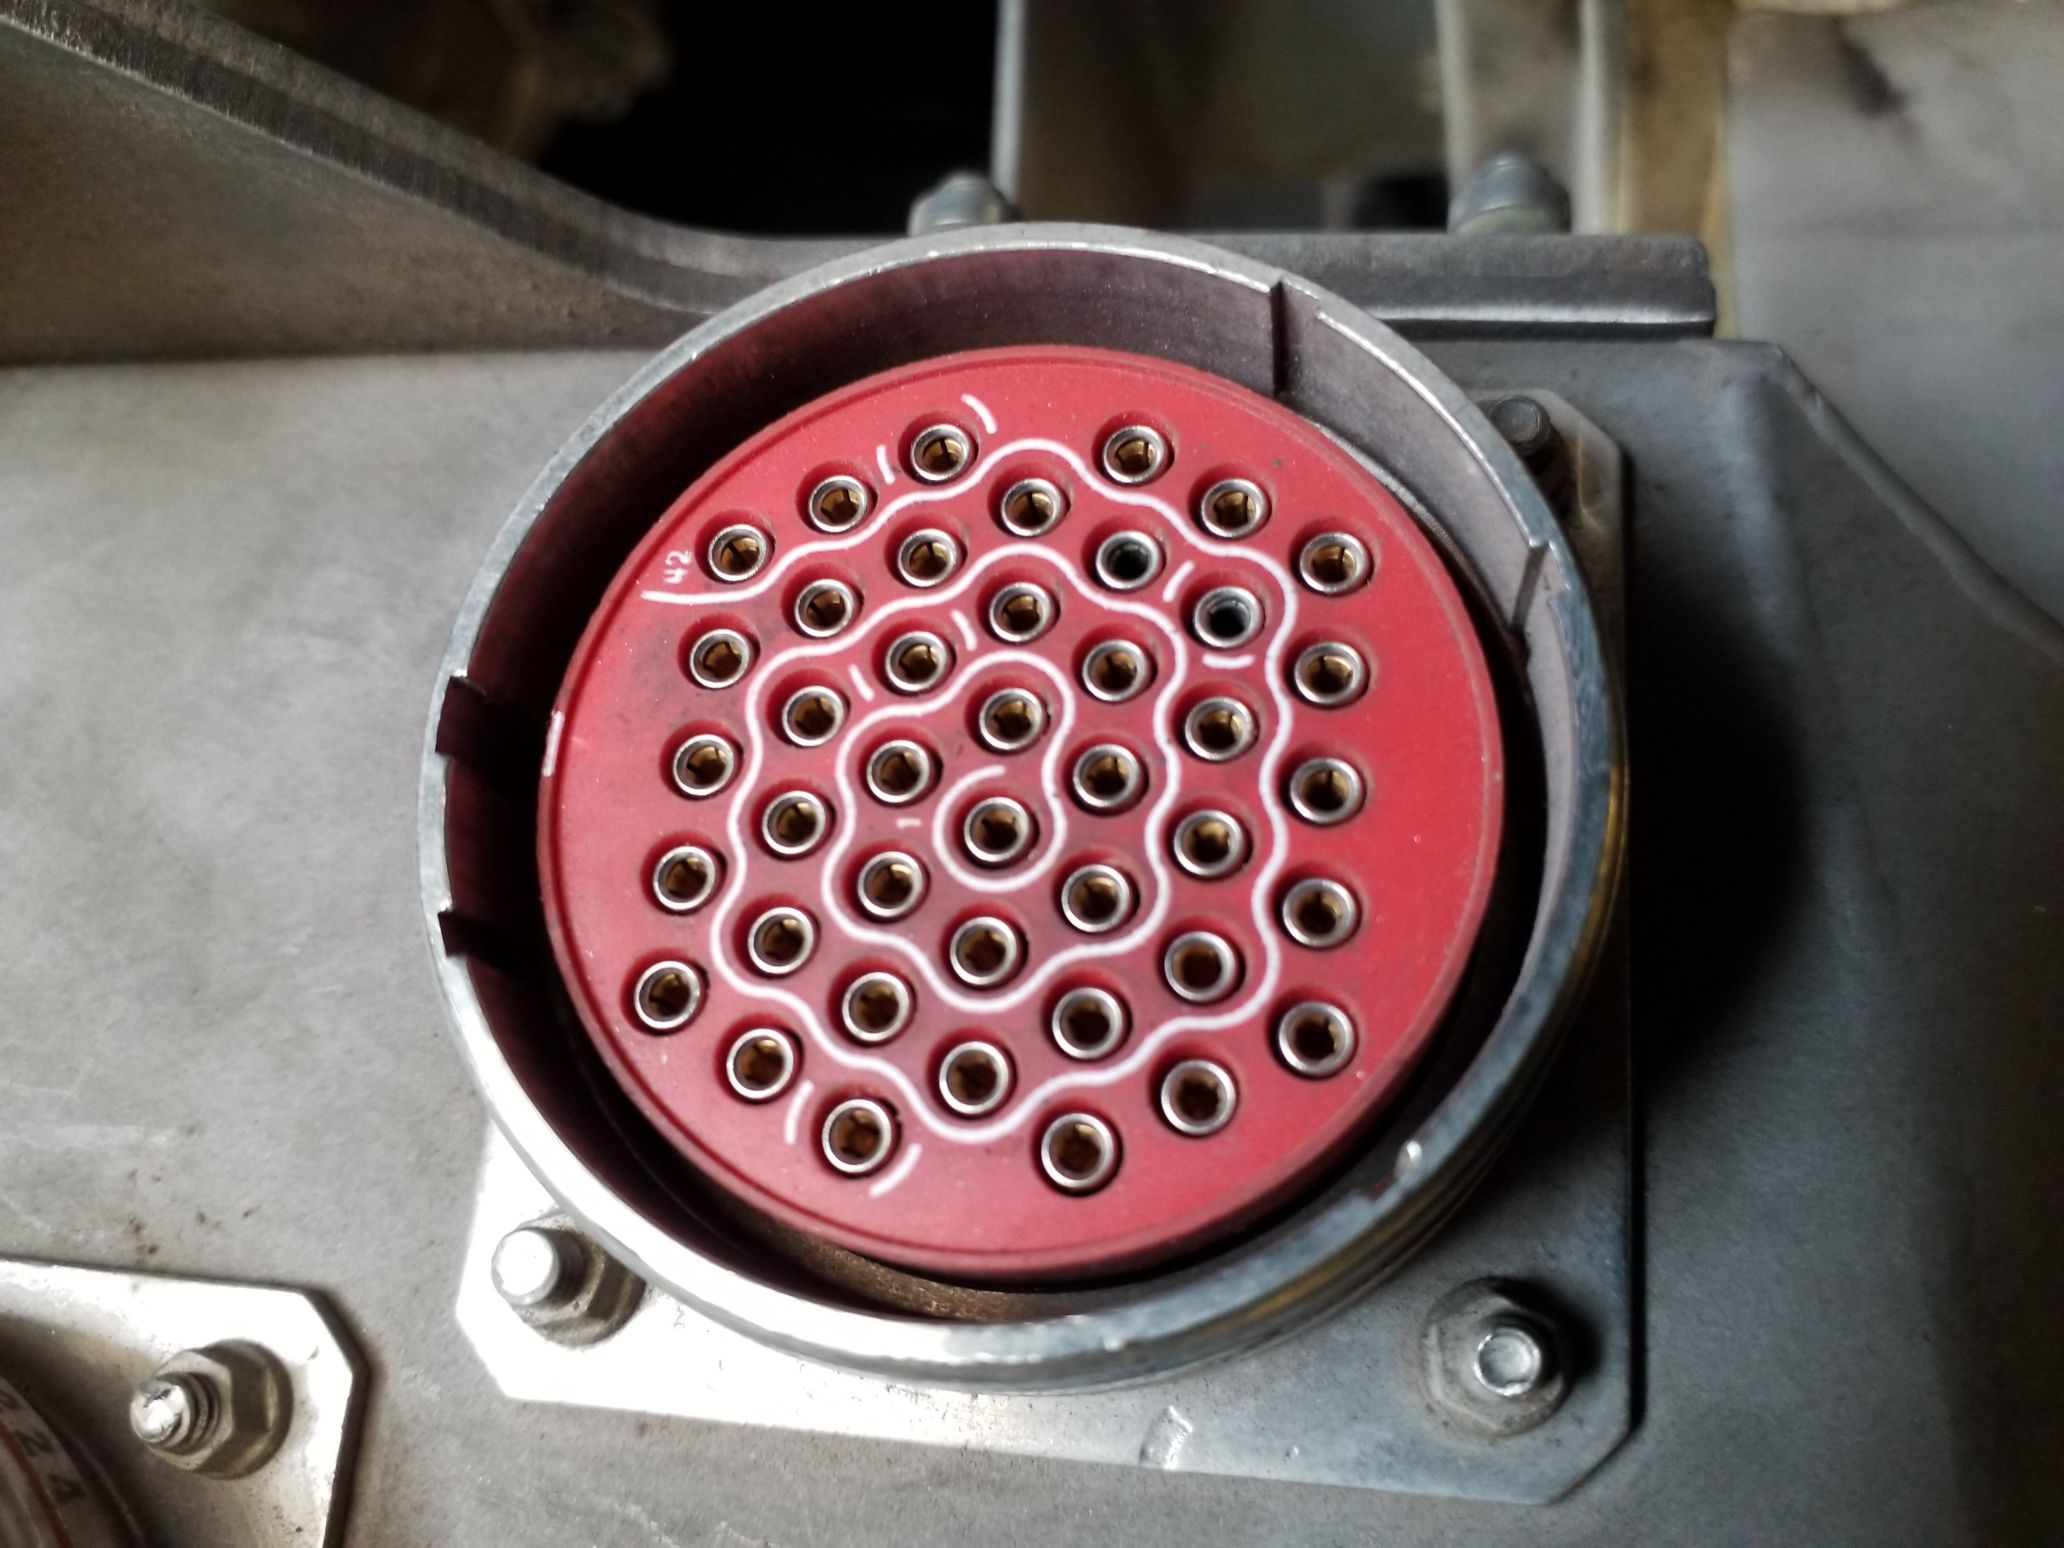inletround: (421, 193, 1637, 1361)
